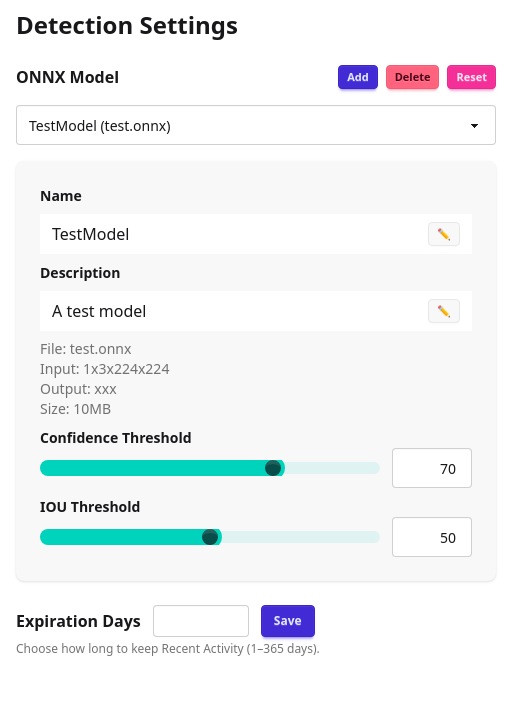
Test: SettingsView › shows input fields with correct ids when editing
The image size is (513, 705).
Click the button "✏️" in the row of "TestModel" at x=444, y=234, box [428, 222, 460, 246]
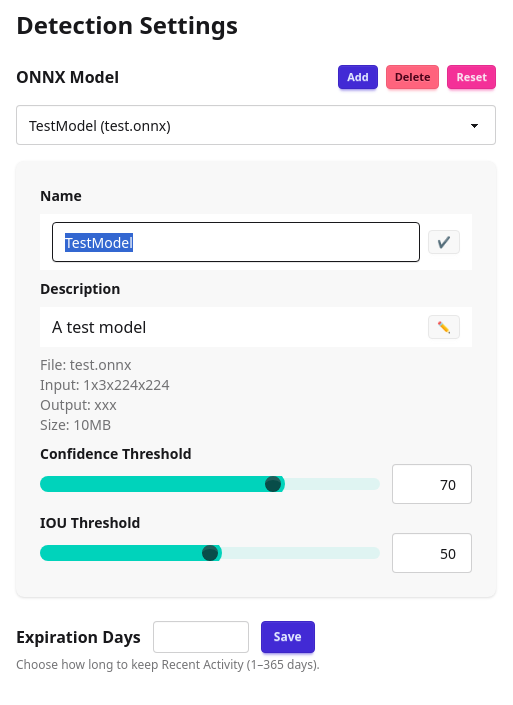
Click the button "✏️" at x=444, y=327, box [428, 315, 460, 339]
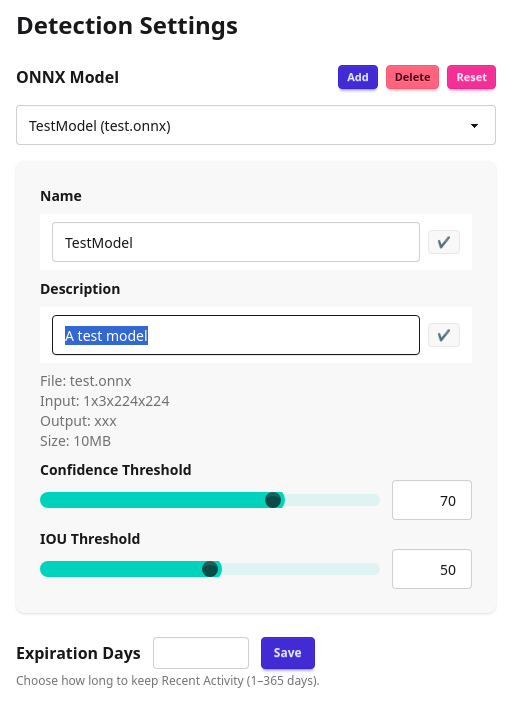
Expected: the slider with id "iou" is shown, [40, 561, 392, 577]
Expected: the field with id "name" is shown, [52, 222, 420, 262]
Expected: the field with id "desc" is shown, [52, 315, 420, 355]
